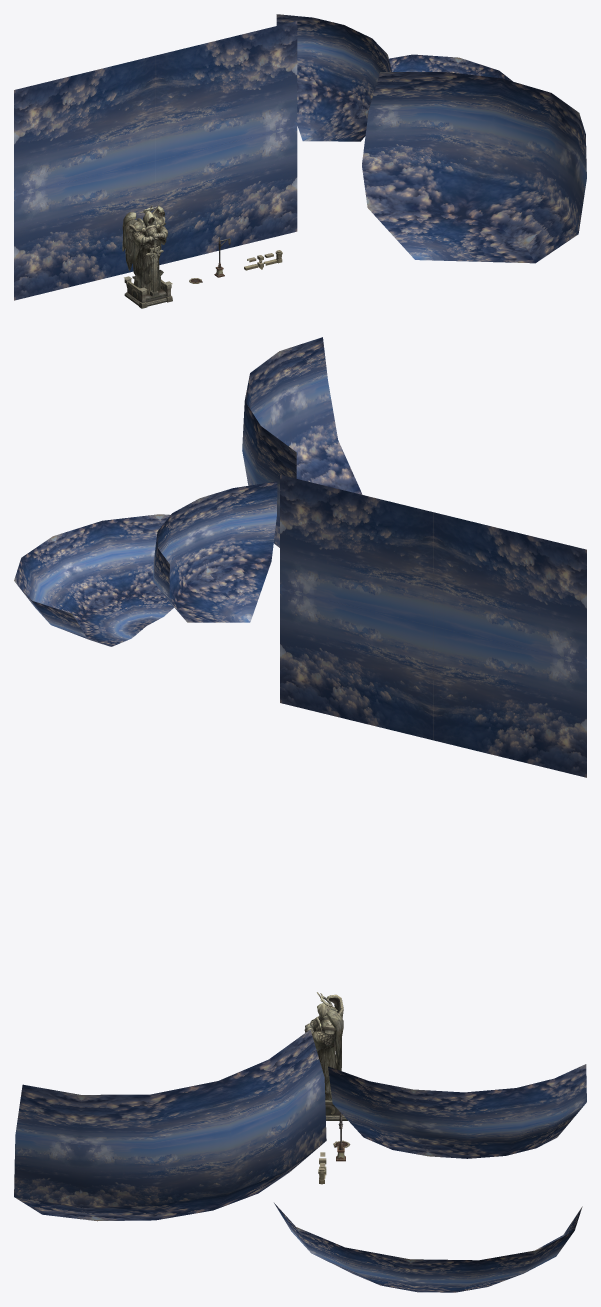
Rendered from QSC_diaosu_001.FBX.
3 views of the same model, one above another, from view 1: azimuth 30°, elevation 25°; view 2: azimuth 150°, elevation 25°; view 3: azimuth 270°, elevation 25° (orthographic). The views are drawn at different scales.
Visible parts, largest first — view 1: ZC_wj_sky_007, ZC_wj_sky_004, ZC_wj_sky_003, ZC_wj_sky_002, ZC_wj_sky_001, ZC_wj_sky_005, ZC_jz_diaoxiang_001, ZC_wj_sky_006, ZC_jz_diaoxiang_005, ZC_jz_diaoxiang_002; view 2: ZC_wj_sky_001, ZC_wj_sky_004, ZC_wj_sky_003, ZC_wj_sky_002, ZC_wj_sky_006, ZC_wj_sky_005, ZC_wj_sky_007; view 3: ZC_wj_sky_007, ZC_wj_sky_005, ZC_wj_sky_006, ZC_jz_diaoxiang_001, ZC_jz_diaoxiang_002.
Part boxes in pixels (<box>): ZC_wj_sky_007: <box>362,72,586,263</box>; ZC_wj_sky_004: <box>155,21,297,160</box>; ZC_wj_sky_003: <box>14,55,155,195</box>; ZC_wj_sky_002: <box>155,126,297,264</box>; ZC_wj_sky_001: <box>14,161,155,300</box>; ZC_wj_sky_005: <box>276,14,391,141</box>; ZC_jz_diaoxiang_001: <box>128,211,167,294</box>; ZC_wj_sky_006: <box>389,54,512,81</box>; ZC_jz_diaoxiang_005: <box>124,276,172,308</box>; ZC_jz_diaoxiang_002: <box>122,205,164,274</box>; ZC_wj_sky_001: <box>433,626,586,777</box>; ZC_wj_sky_004: <box>280,475,433,626</box>; ZC_wj_sky_003: <box>433,512,586,663</box>; ZC_wj_sky_002: <box>280,589,433,740</box>; ZC_wj_sky_006: <box>14,514,173,646</box>; ZC_wj_sky_005: <box>153,481,277,622</box>; ZC_wj_sky_007: <box>242,337,362,547</box>; ZC_wj_sky_007: <box>14,1029,326,1221</box>; ZC_wj_sky_005: <box>328,1064,586,1158</box>; ZC_wj_sky_006: <box>274,1203,582,1292</box>; ZC_jz_diaoxiang_001: <box>304,1002,337,1100</box>; ZC_jz_diaoxiang_002: <box>326,994,343,1070</box>.
Bounding box in the file's own units: 2294 × 917 × 1806.
